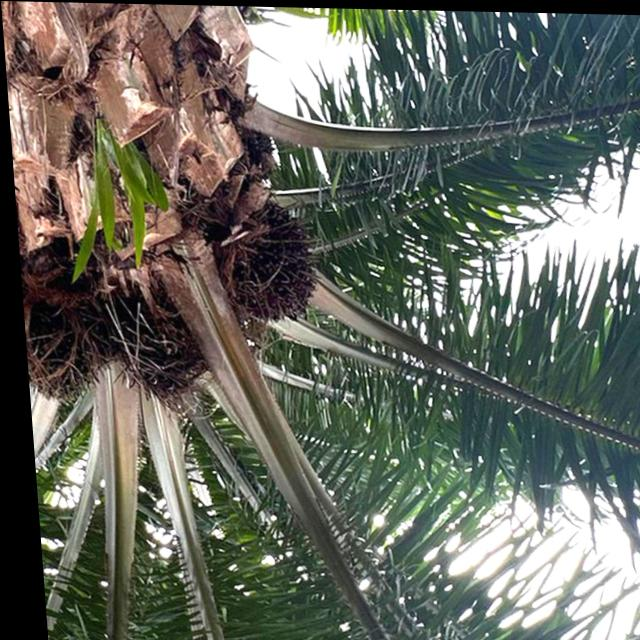almost: (209, 196, 321, 326)
